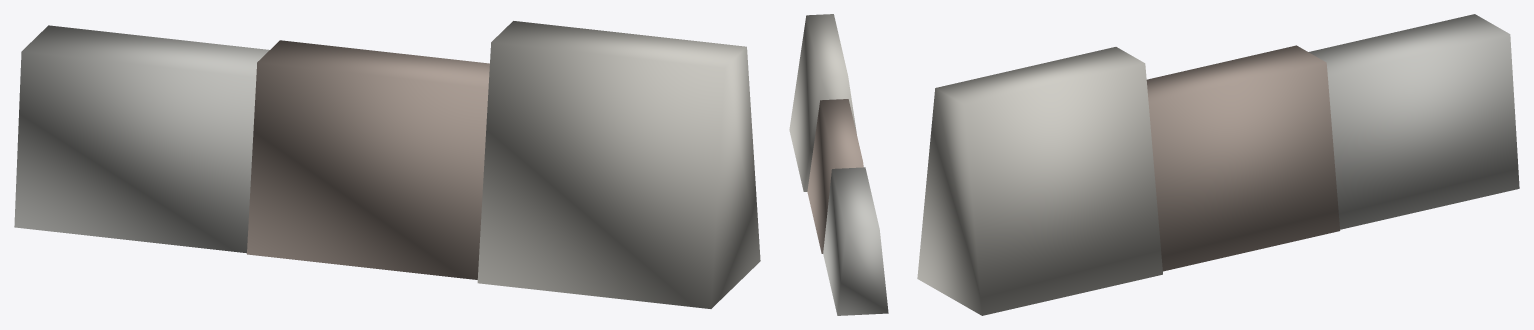
File: farm_-16_-24_collision.glb
3 renders of one model, left to right at view 1: azimuth 30°, elevation 25°; view 2: azimuth 150°, elevation 25°; view 3: azimuth 270°, elevation 25°, orthographic. The views are drawn at different scales.
Parts seen in each view (by area): view 1: geometry_0; view 2: geometry_0; view 3: geometry_0.
Boxes of the visible parts, <box> form: geometry_0: <box>14,21,760,308</box>; geometry_0: <box>789,14,888,315</box>; geometry_0: <box>917,14,1519,315</box>.
Bounding box in the file's own units: 3.23 × 1.82 × 4.04.
